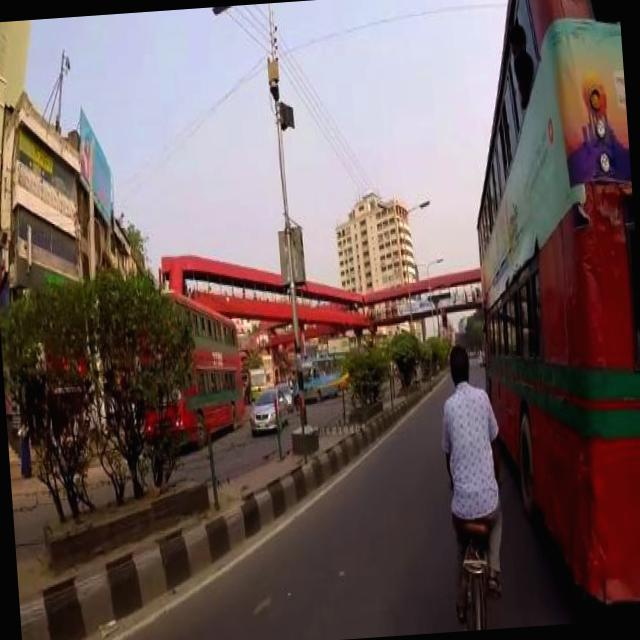bus: (460, 0, 640, 611), (134, 280, 249, 444), (302, 348, 352, 397)
car: (248, 382, 292, 429), (277, 378, 294, 404)
